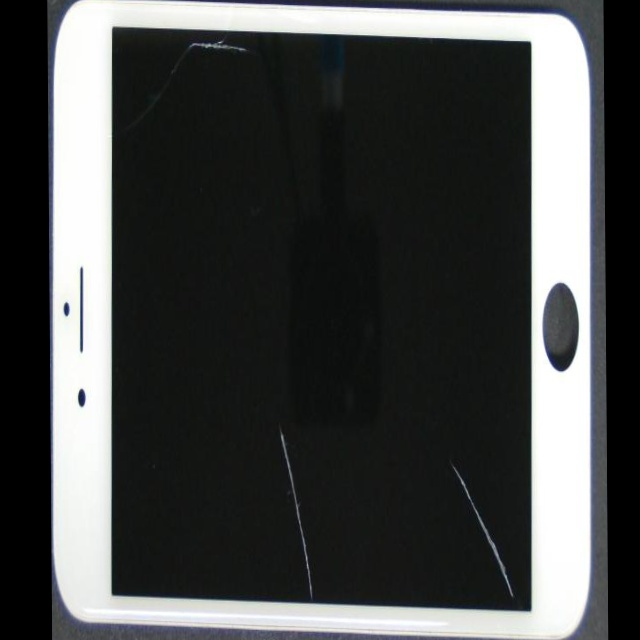scratch: (158, 82, 401, 640), (321, 355, 609, 640), (76, 0, 282, 78)
